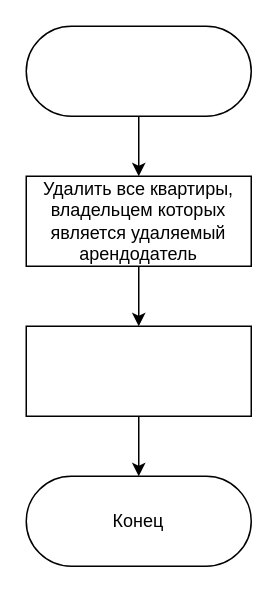
This 278x593 diagram has some shape labels left out. Each missing label, with the centre of its shape:
Начало: the point at 138,70
Удалить все подписки на удаляемого арендодателя: the point at 138,370
